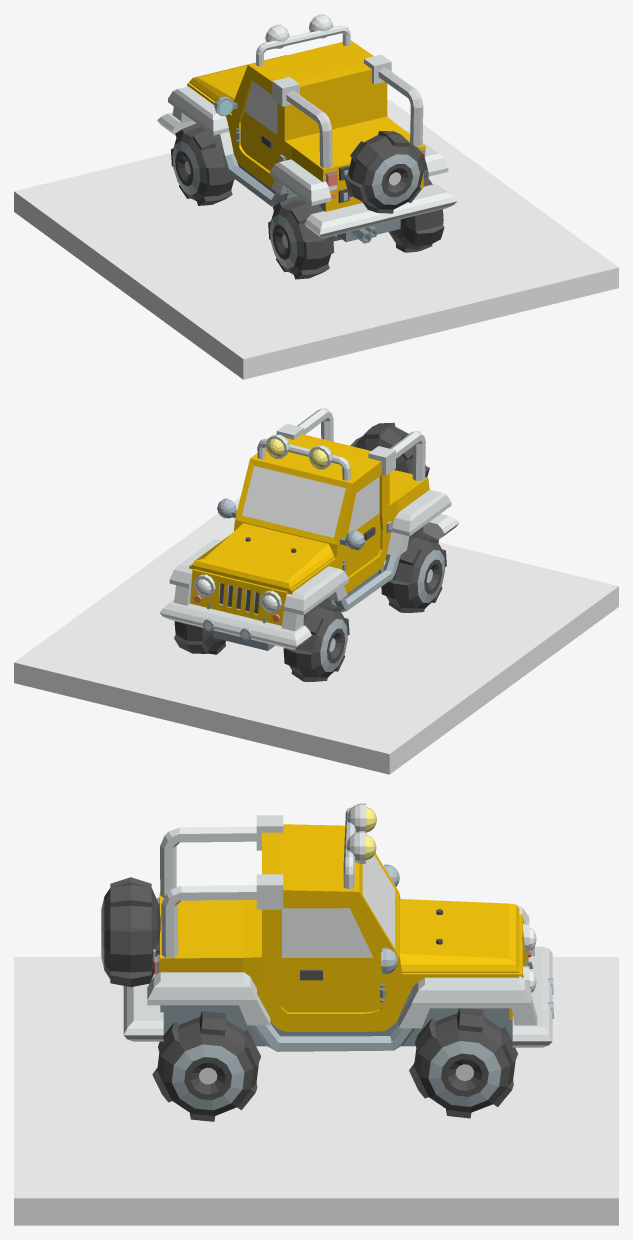
The model's file is CAR.gltf.
3 renders of one model, top to bottom at view 1: azimuth 30°, elevation 25°; view 2: azimuth 150°, elevation 25°; view 3: azimuth 270°, elevation 25°, orthographic. The views are drawn at different scales.
Visible parts, largest first — view 1: mesh2133652563, mesh1085046267, Wheel_Back, Wheel_Front; view 2: mesh2133652563, mesh1085046267, Wheel_Front, Wheel_Back; view 3: mesh2133652563, mesh1085046267, Wheel_Front, Wheel_Back.
Part boxes in pixels (x1=…): mesh2133652563: x1=14, y1=99, x2=618, y2=379; mesh1085046267: x1=157, y1=14, x2=456, y2=243; Wheel_Back: x1=268, y1=173, x2=444, y2=279; Wheel_Front: x1=171, y1=123, x2=234, y2=205; mesh2133652563: x1=14, y1=497, x2=618, y2=774; mesh1085046267: x1=159, y1=408, x2=459, y2=650; Wheel_Front: x1=174, y1=602, x2=349, y2=681; Wheel_Back: x1=381, y1=533, x2=446, y2=612; mesh2133652563: x1=14, y1=957, x2=618, y2=1225; mesh1085046267: x1=101, y1=803, x2=553, y2=1051; Wheel_Front: x1=409, y1=1008, x2=517, y2=1118; Wheel_Back: x1=152, y1=1011, x2=260, y2=1121.
Bounding box in the file's own units: 1.72 × 0.9493 × 1.82.
